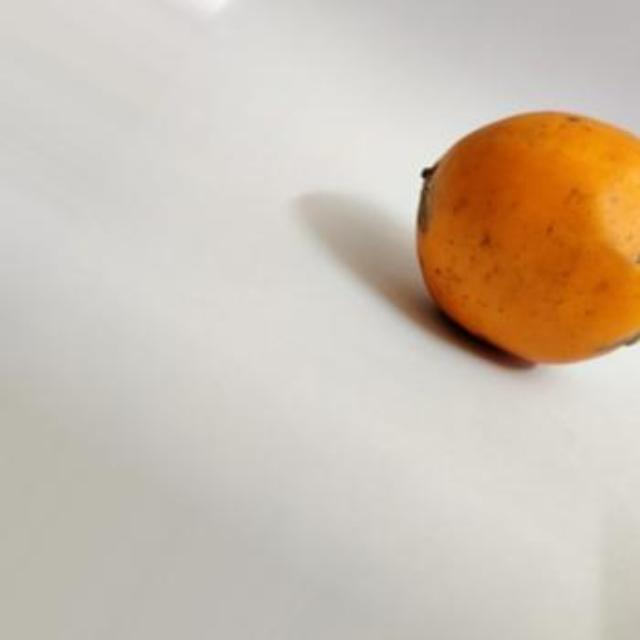good: (417, 112, 638, 368)
